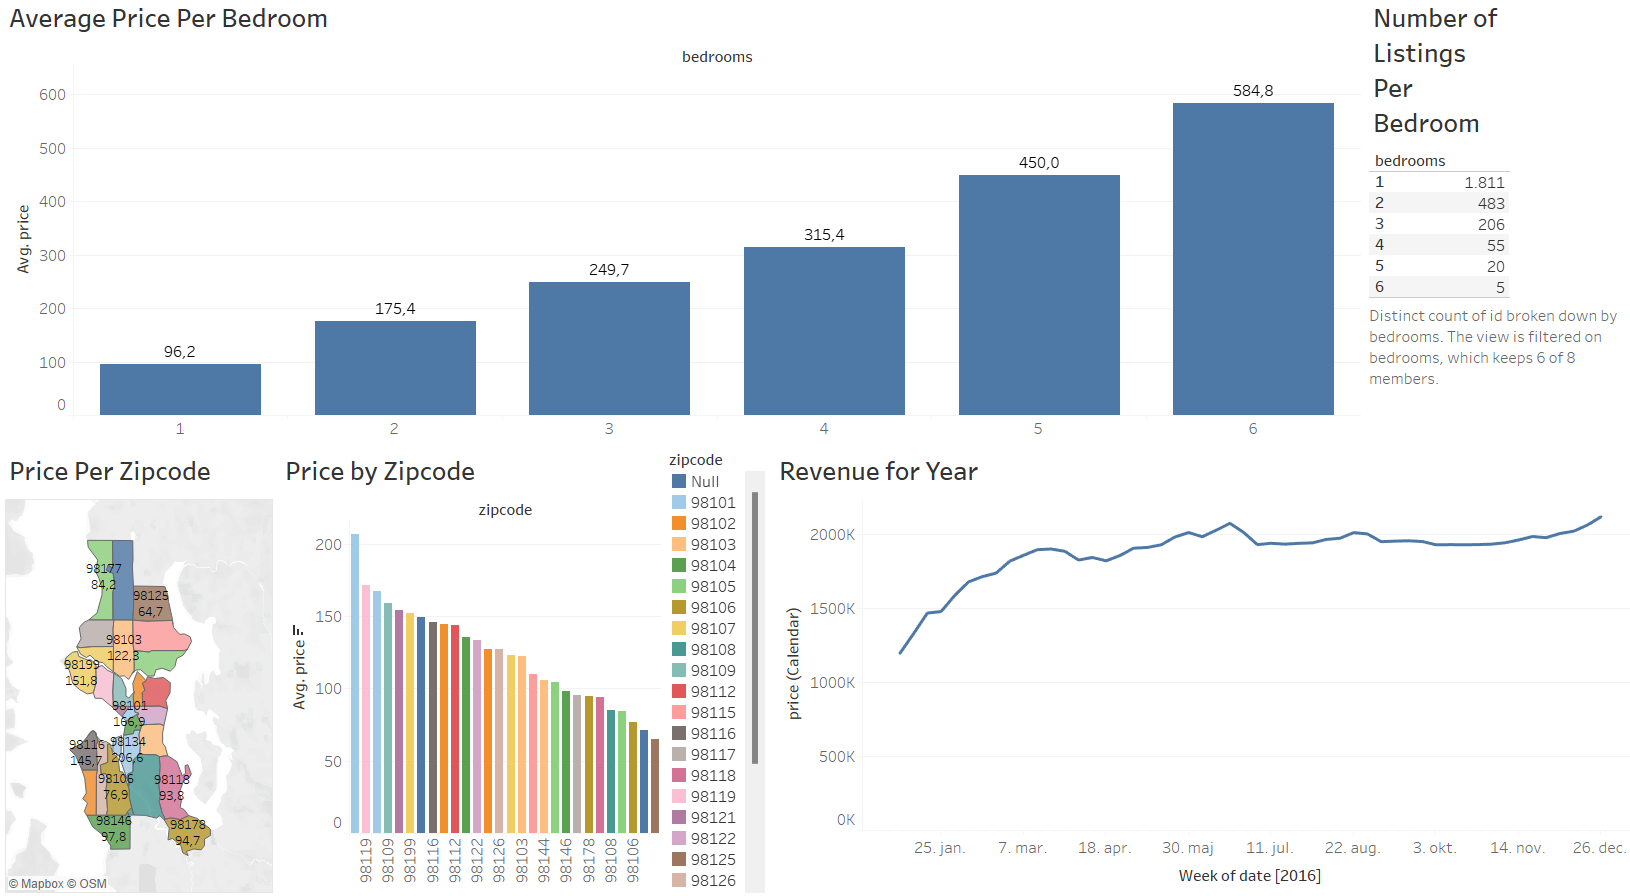

This screenshot's page, from the dashboard's own definition file:
{"tool":"tableau","page":{"name":"Dashboard 1","canvas":[1000,1000],"units":"permille","ordinal":0},"visuals":[{"type":"worksheet","title":"Sheet 4","mark":"Automatic","rows":["price"],"cols":["bedrooms"],"box":[4.8,9.7,823.2,490.3]},{"type":"worksheet","title":"Sheet 5","mark":"Automatic","rows":["bedrooms"],"box":[828,9.7,167.2,490.3]},{"type":"worksheet","title":"Sheet 2","mark":"Multipolygon","box":[4.8,500,166.6,490.3]},{"type":"worksheet","title":"Sheet 1","mark":"Automatic","rows":["price"],"cols":["zipcode"],"box":[171.4,500,234.2,490.3]},{"type":"legend","title":"Sheet 1","param":"[federated.19eyntt1cdvd5q16o68xs1c5kbdy].[none:zipcode:ok]","box":[405.6,500,64,490.3]},{"type":"worksheet","title":"Sheet 3","mark":"Automatic","rows":["price (Calendar)"],"cols":["date"],"box":[469.5,500,525.6,490.3]}]}

Visuals, with their boxes on the dashboard's canvas, which has no fixed pixel size, in thousandths of its width and height (x1, y1, x2, y2). These are canvas units, not pixel positions in the 1630x896 screenshot, which may show the page scaled, cropped or inside an application window:
"Sheet 4" worksheet: <bbox>5, 10, 828, 500</bbox>
"Sheet 5" worksheet: <bbox>828, 10, 995, 500</bbox>
"Sheet 2" worksheet (Multipolygon marks): <bbox>5, 500, 171, 990</bbox>
"Sheet 1" worksheet: <bbox>171, 500, 406, 990</bbox>
"Sheet 1" legend: <bbox>406, 500, 470, 990</bbox>
"Sheet 3" worksheet: <bbox>470, 500, 995, 990</bbox>
